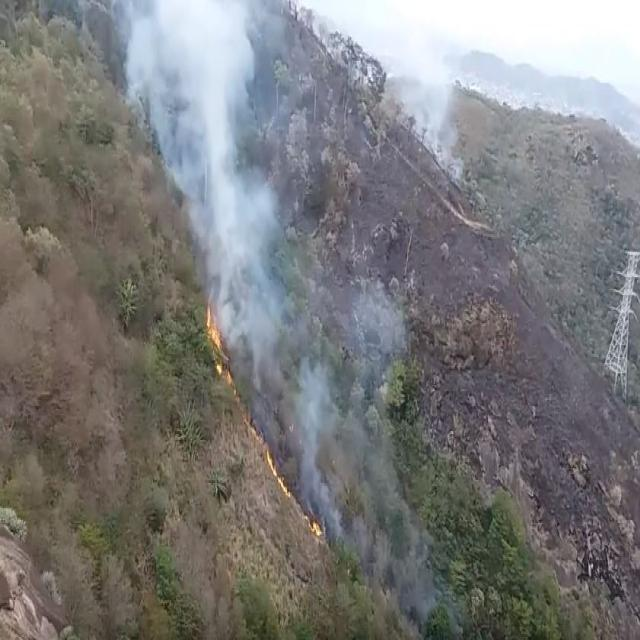Fire: (188, 308, 334, 575), (264, 456, 276, 480), (202, 302, 212, 324), (211, 359, 221, 374), (314, 522, 320, 539)
Smoke: (124, 13, 356, 486), (370, 9, 468, 181), (369, 272, 425, 500), (202, 102, 262, 298), (289, 339, 346, 537), (230, 270, 284, 394), (410, 94, 467, 192)
